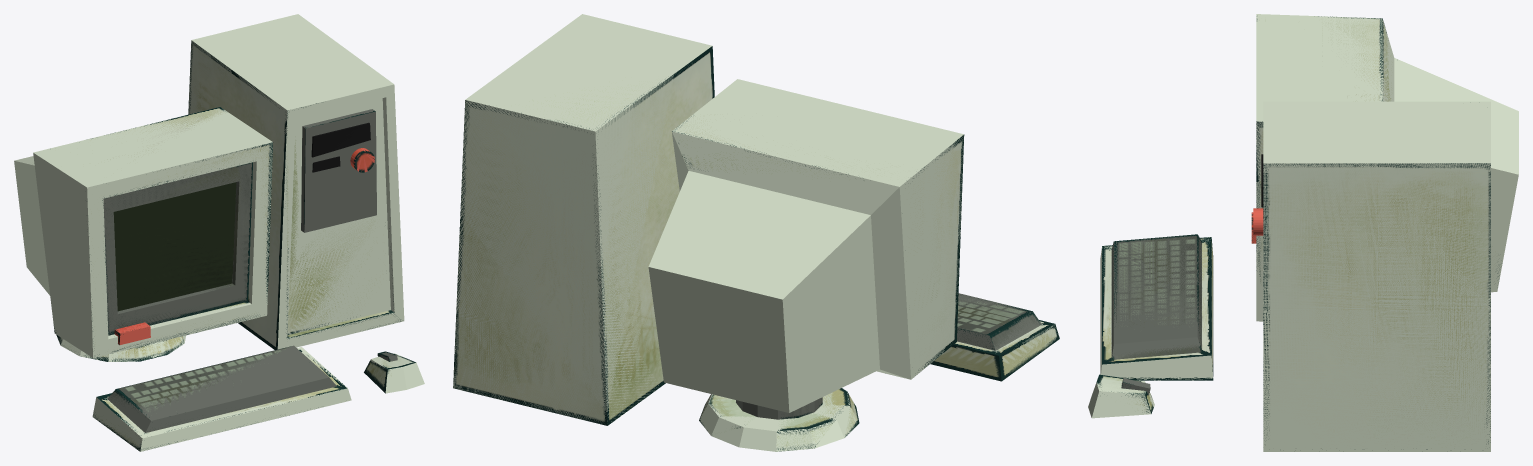
3 renders of one model, left to right at view 1: azimuth 30°, elevation 25°; view 2: azimuth 150°, elevation 25°; view 3: azimuth 270°, elevation 25°, orthographic. The views are drawn at different scales.
Parts seen in each view (by area): view 1: PC, PCText; view 2: PC, PCText; view 3: PC, PCText.
Boxes of the visible parts, x1,y1,x2,y2 form: PC: (14,14,424,451); PCText: (32,41,415,451); PC: (453,14,1056,451); PCText: (453,46,1059,451); PC: (1088,14,1518,451); PCText: (1095,16,1499,449).
Bounding box in the file's own units: 148 × 101 × 140.
6 materials, 1 textured.
